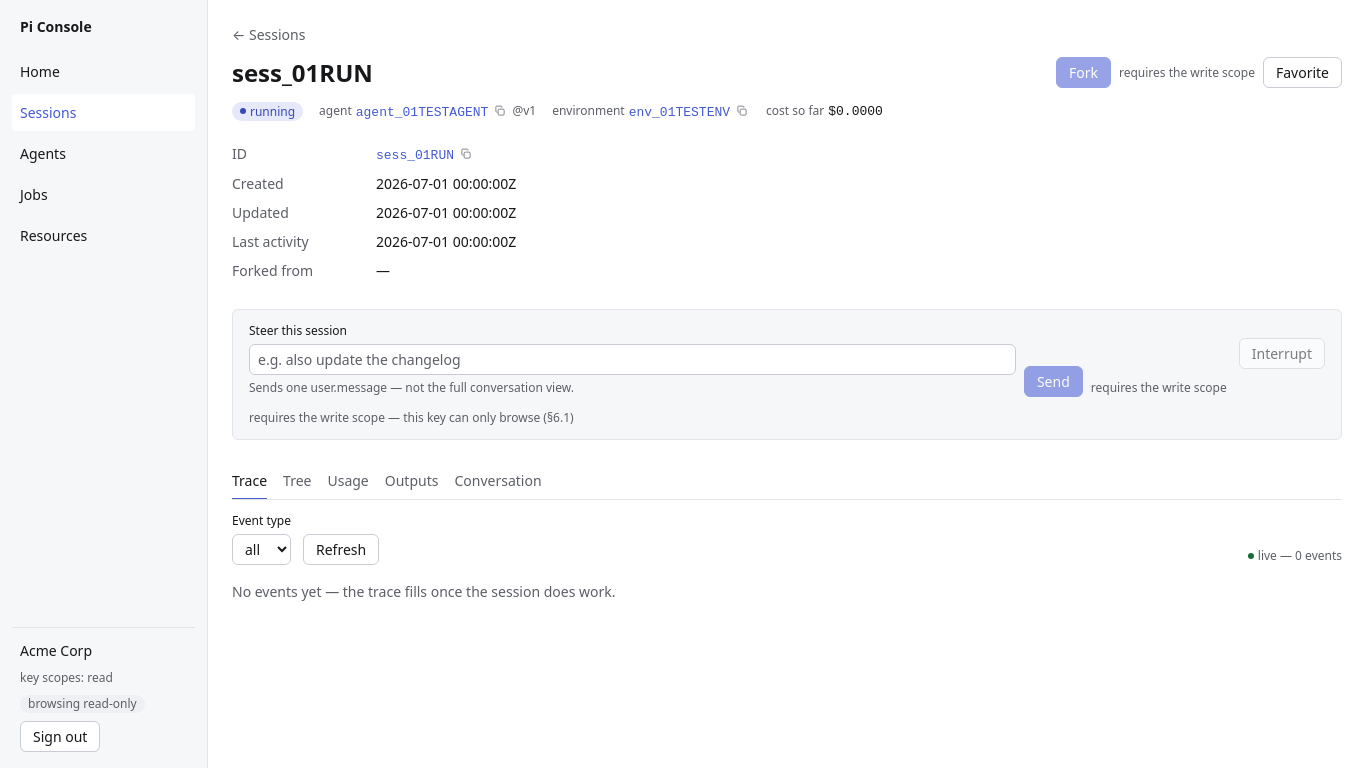
Scenario: idle-only rule (api-reference: 409 session_not_idle) › a non-idle session gets one line of DP-6 microcopy, not an alarm
Check: the element named "Session detail" is shown, box [232,464,1342,500]
Click the tab "Outputs".
click(412, 482)  # box [385,464,438,500]
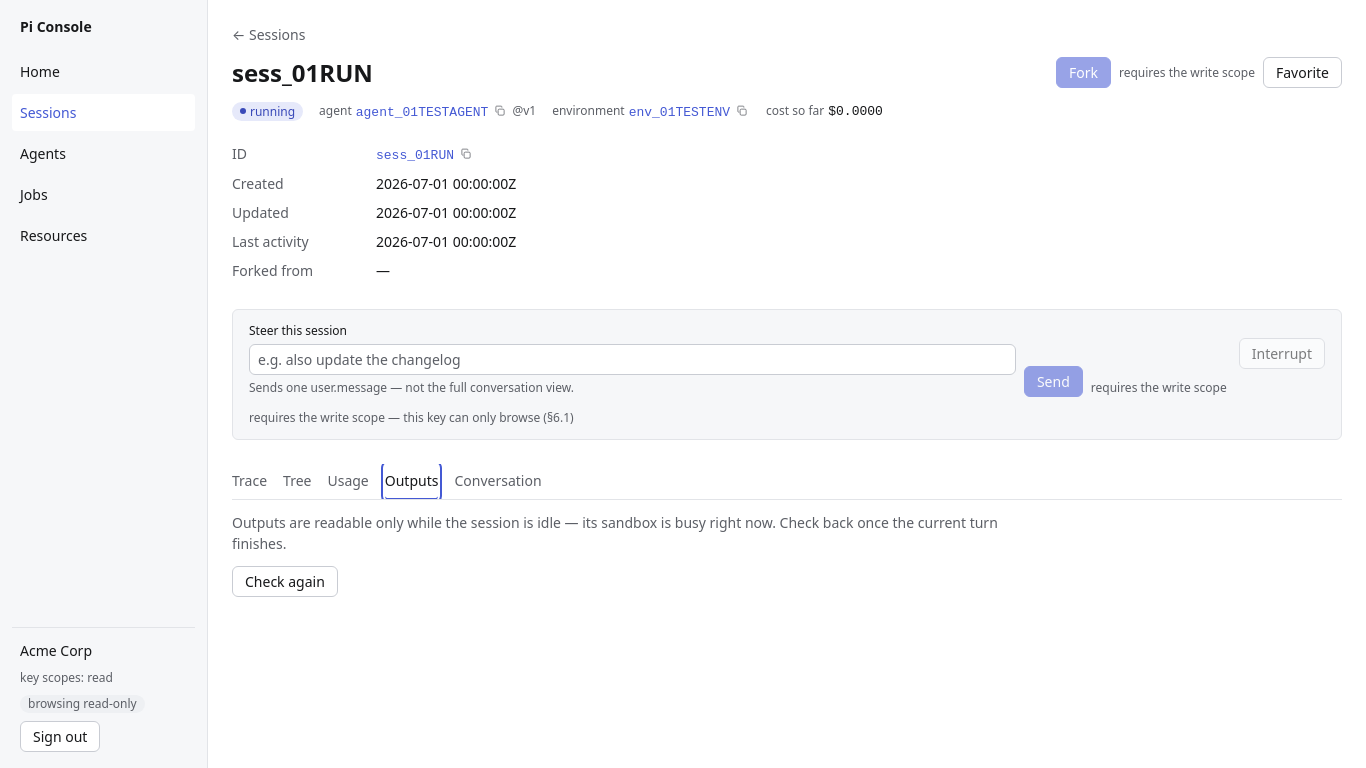
Check: the text "readable only while the session is idle" is shown, box [232,513,998,553]
Check: the message "live — 0 events" is gone
Check: the button "Check again" is shown, box [232,566,338,597]
